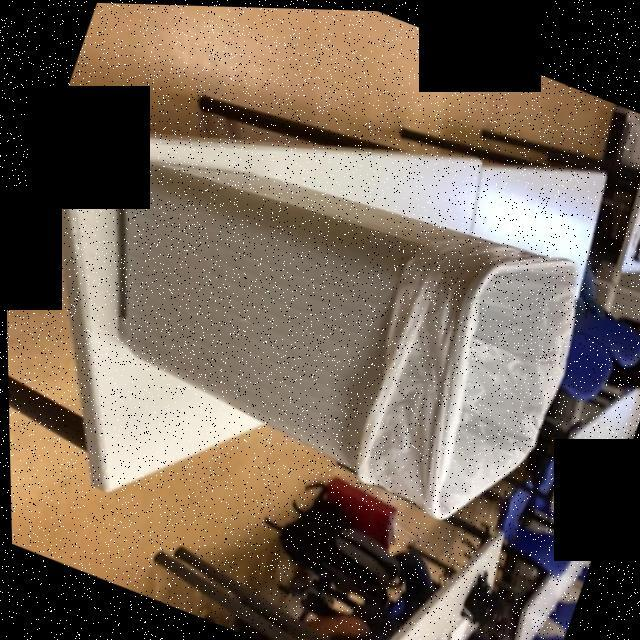bin: (36, 47, 640, 582)
